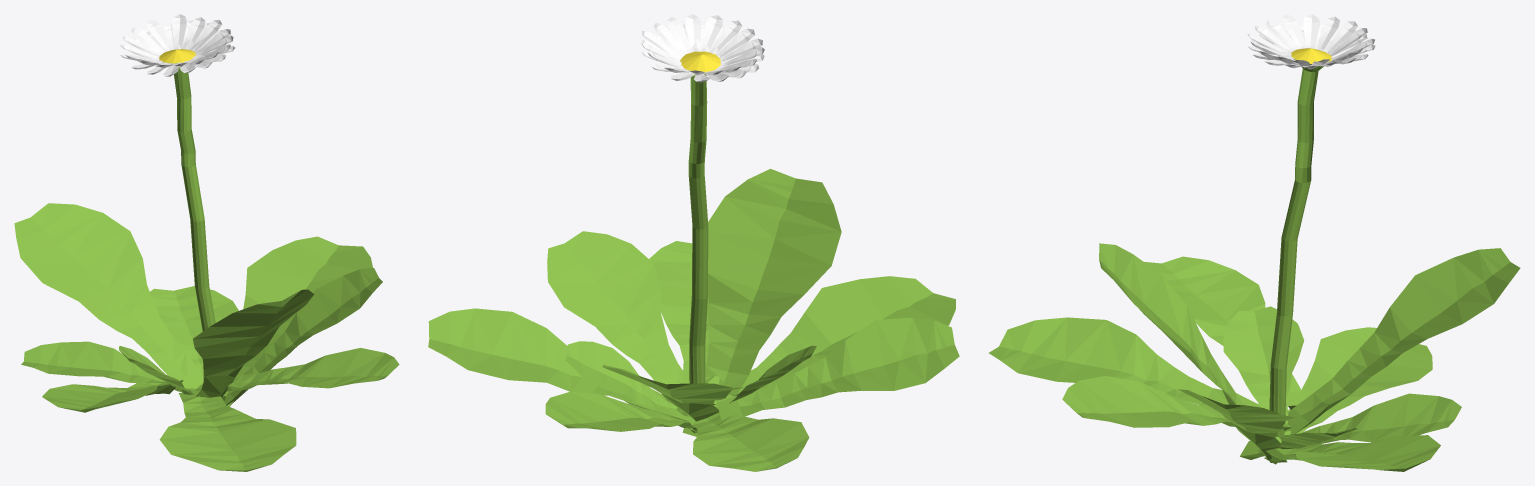
3 renders of one model, left to right at view 1: azimuth 30°, elevation 25°; view 2: azimuth 150°, elevation 25°; view 3: azimuth 270°, elevation 25°, orthographic. The views are drawn at different scales.
Visible parts, largest first — view 1: mesh2019668452, mesh1465175876, mesh363313645, mesh1539540807, mesh867217690, mesh891301753, mesh1952359866, mesh344732809, mesh653353681, mesh1848682371, mesh466956623, mesh1511724749 (+1 smaller); view 2: mesh1539540807, mesh867217690, mesh1848682371, mesh363313645, mesh1465175876, mesh891301753, mesh344732809, mesh1952359866, mesh653353681, mesh1511724749, mesh2019668452, mesh466956623; view 3: mesh2019668452, mesh1465175876, mesh891301753, mesh1539540807, mesh1952359866, mesh1848682371, mesh344732809, mesh653353681, mesh466956623, mesh363313645, mesh867217690, mesh1511724749.
Part boxes in pixels (x1,y1,x2,y2): mesh2019668452: (14, 203, 203, 388); mesh1465175876: (159, 390, 296, 471); mesh363313645: (227, 236, 372, 406); mesh1539540807: (193, 289, 313, 397); mesh867217690: (224, 268, 382, 406); mesh891301753: (159, 49, 215, 380); mesh1952359866: (196, 348, 399, 391); mesh344732809: (21, 341, 228, 400); mesh653353681: (150, 286, 238, 376); mesh1848682371: (42, 380, 183, 412); mesh466956623: (119, 346, 194, 394); mesh1511724749: (237, 301, 293, 374); mesh1539540807: (682, 168, 841, 436); mesh867217690: (547, 231, 682, 408); mesh1848682371: (717, 317, 959, 420); mesh363313645: (428, 308, 688, 421); mesh1465175876: (713, 276, 955, 407); mesh891301753: (680, 51, 720, 433); mesh344732809: (676, 407, 809, 471); mesh1952359866: (649, 241, 719, 404); mesh653353681: (545, 391, 694, 431); mesh1511724749: (565, 341, 696, 432); mesh2019668452: (602, 365, 745, 421); mesh466956623: (693, 345, 816, 429); mesh2019668452: (1287, 248, 1520, 434); mesh1465175876: (989, 317, 1259, 408); mesh891301753: (1269, 48, 1331, 460); mesh1539540807: (1099, 243, 1287, 462); mesh1952359866: (1062, 376, 1291, 430); mesh1848682371: (1144, 256, 1303, 409); mesh344732809: (1275, 327, 1432, 442); mesh653353681: (1240, 393, 1461, 459); mesh466956623: (1223, 306, 1304, 413); mesh363313645: (1257, 435, 1440, 471); mesh867217690: (1178, 389, 1294, 460); mesh1511724749: (1264, 428, 1357, 464).
Bounding box in the file's own units: 2.49 × 2.29 × 2.61.
